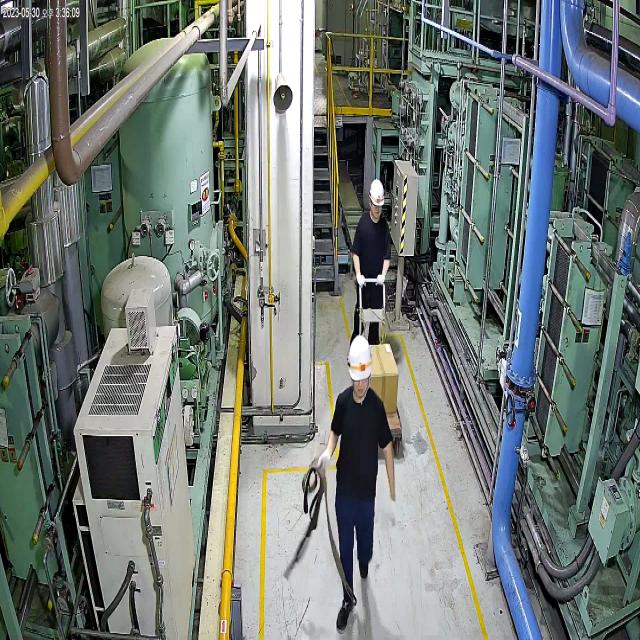worker: (315, 324, 407, 640), (342, 163, 396, 366)
